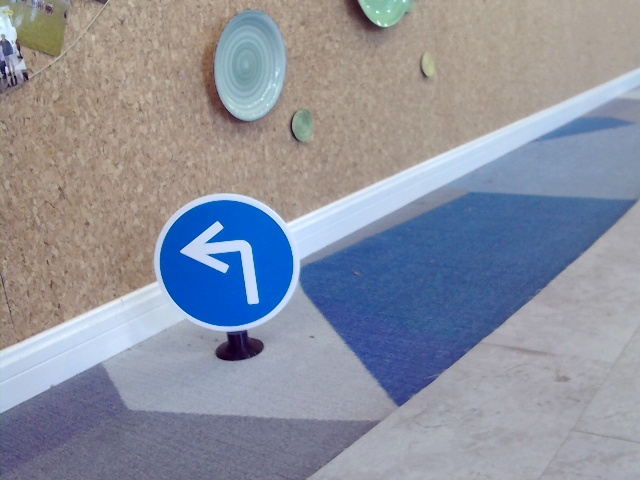turn_left: (179, 220, 272, 307)
